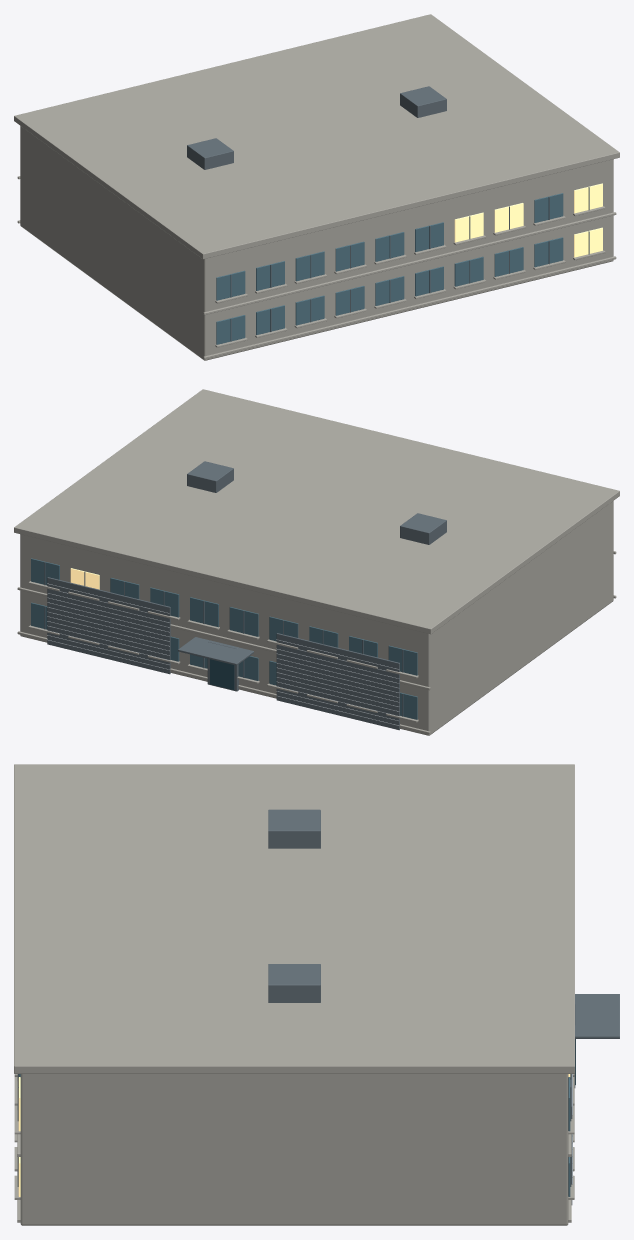
The model's file is Warehouse.fbx.
The picture shows the model from 3 angles, top to bottom: view 1: azimuth 30°, elevation 25°; view 2: azimuth 150°, elevation 25°; view 3: azimuth 270°, elevation 25°; orthographic projection. The views are drawn at different scales.
Visible parts, largest first — view 1: Body.036; view 2: Body.036; view 3: Body.036.
Part boxes in pixels (<box>): Body.036: <box>14,14,619,360</box>; Body.036: <box>14,389,619,735</box>; Body.036: <box>14,764,619,1225</box>.
Size of the model in its own units: 32.6 by 9.1 by 27.65.
